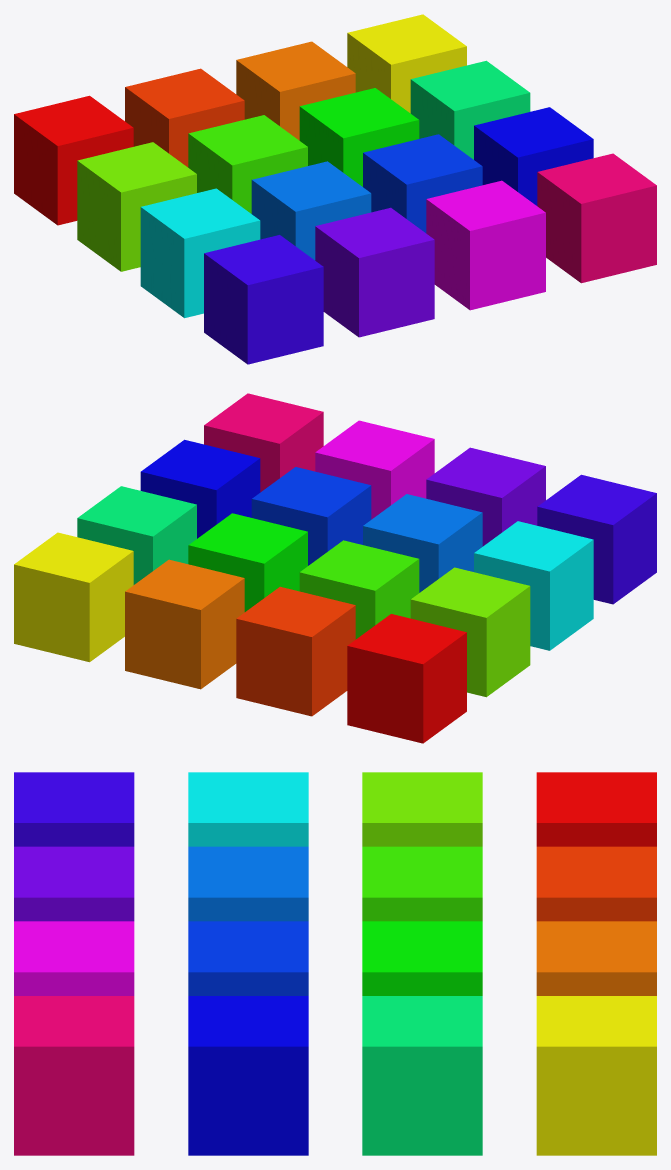
File: dummyitems.FBX
The picture shows the model from 3 angles, top to bottom: view 1: azimuth 30°, elevation 25°; view 2: azimuth 150°, elevation 25°; view 3: azimuth 270°, elevation 25°; orthographic projection. The views are drawn at different scales.
Visible parts, largest first — view 1: Box016, Box012, Box008, Box004, Box015, Box014, Box013, Box011, Box002, Box009, Box001, Box003 (+4 smaller); view 2: Box013, Box009, Box005, Box001, Box014, Box015, Box016, Box010, Box003, Box012, Box002, Box004 (+4 smaller); view 3: Box001, Box002, Box003, Box004, Box010, Box011, Box009, Box012, Box005, Box006, Box007, Box008 (+4 smaller).
Boxes of the visible parts, x1,y1,x2,y2 form: Box016: [204, 235, 323, 364]; Box012: [315, 207, 434, 337]; Box008: [426, 180, 545, 310]; Box004: [537, 153, 656, 283]; Box015: [140, 188, 260, 318]; Box014: [77, 142, 196, 271]; Box013: [14, 95, 133, 225]; Box011: [251, 161, 371, 260]; Box002: [410, 60, 530, 159]; Box009: [125, 68, 244, 167]; Box001: [347, 14, 466, 113]; Box003: [474, 107, 593, 205]; Box013: [347, 614, 466, 743]; Box009: [236, 586, 355, 716]; Box005: [125, 559, 244, 689]; Box001: [14, 532, 133, 662]; Box014: [410, 567, 530, 697]; Box015: [474, 521, 593, 650]; Box016: [537, 474, 656, 604]; Box010: [299, 540, 419, 639]; Box003: [140, 439, 260, 538]; Box012: [426, 447, 545, 546]; Box002: [77, 486, 196, 584]; Box004: [204, 393, 323, 492]; Box001: [536, 996, 656, 1155]; Box002: [362, 996, 482, 1155]; Box003: [188, 996, 308, 1155]; Box004: [14, 996, 134, 1155]; Box010: [362, 846, 482, 921]; Box011: [188, 846, 308, 921]; Box009: [536, 846, 656, 921]; Box012: [14, 846, 134, 921]; Box005: [536, 921, 656, 995]; Box006: [362, 921, 482, 995]; Box007: [188, 921, 308, 995]; Box008: [14, 921, 134, 995].
Bounding box in the file's own units: 149 × 27.56 × 147.
